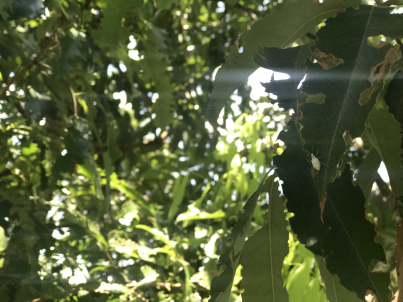weevil: (300, 146, 330, 173)
